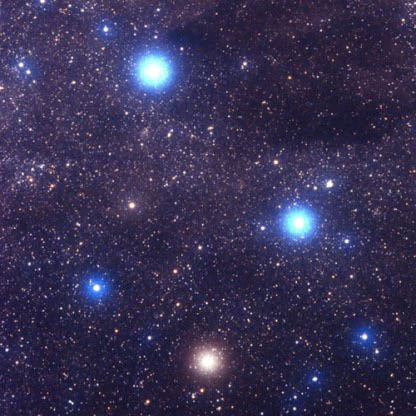Southern Cross: (123, 39, 185, 105), (183, 337, 235, 387), (275, 198, 323, 248), (74, 266, 112, 307)
